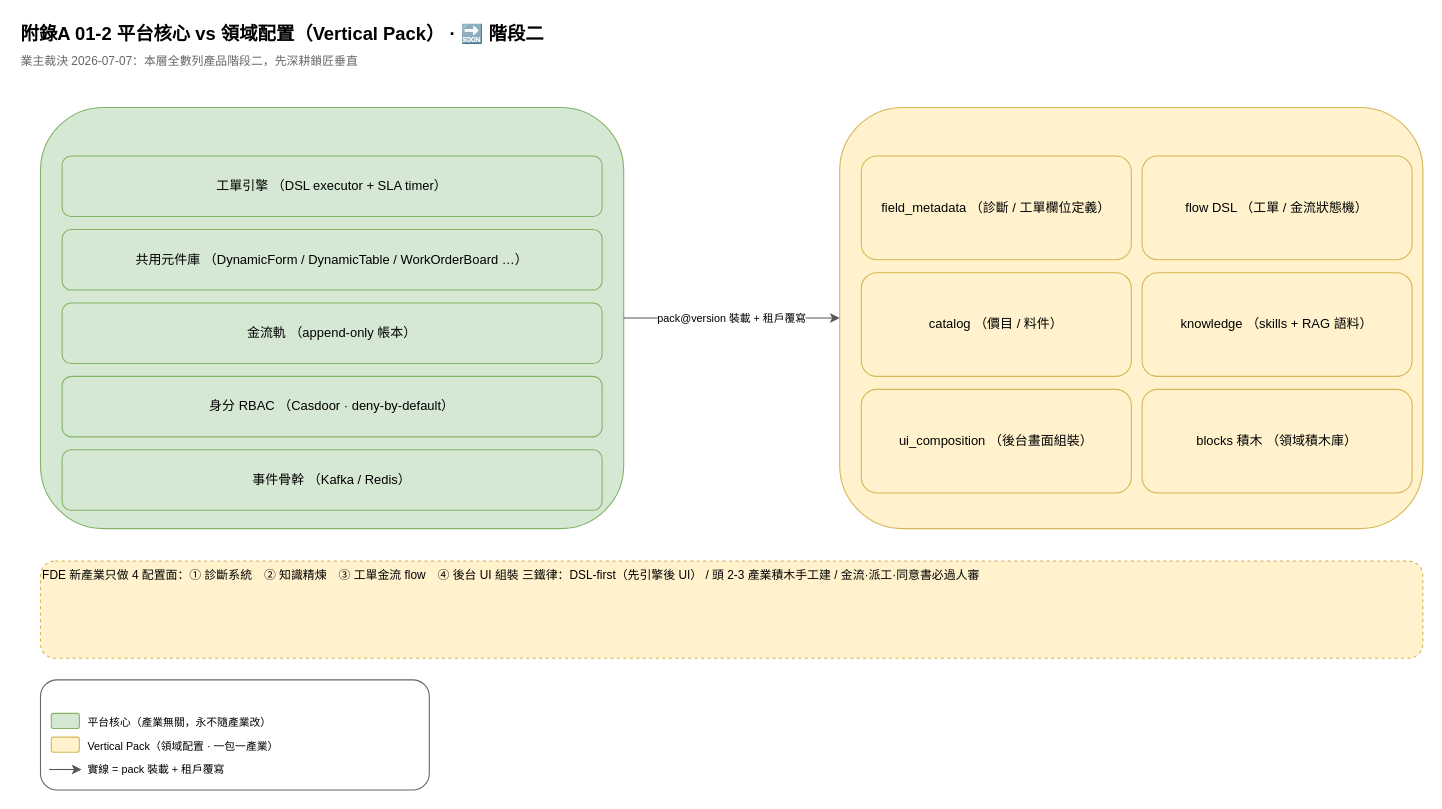
Image size: 1442x809. Some labels were removed from this diagram. Each missing label, with the box of its shape:
Vertical Pack（一包 = 一產業）: (839, 106, 1423, 529)
圖例 Legend: (39, 679, 429, 790)
平台核心（永不隨產業改）: (39, 106, 624, 529)
